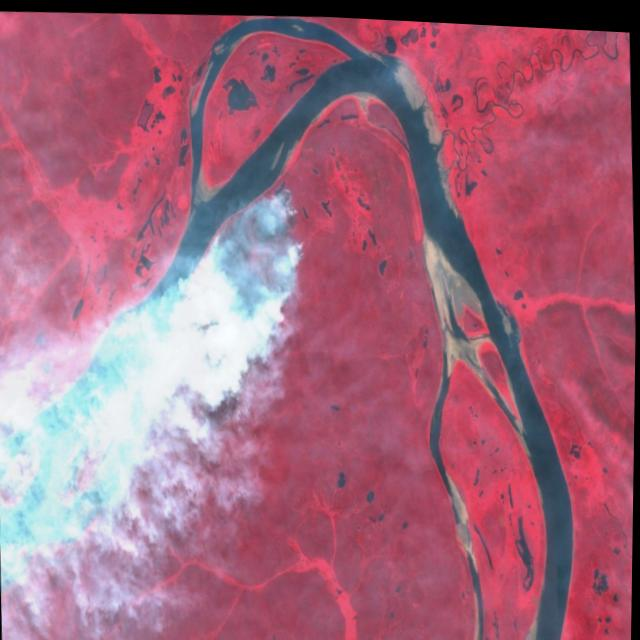fire: (197, 178, 312, 367)
